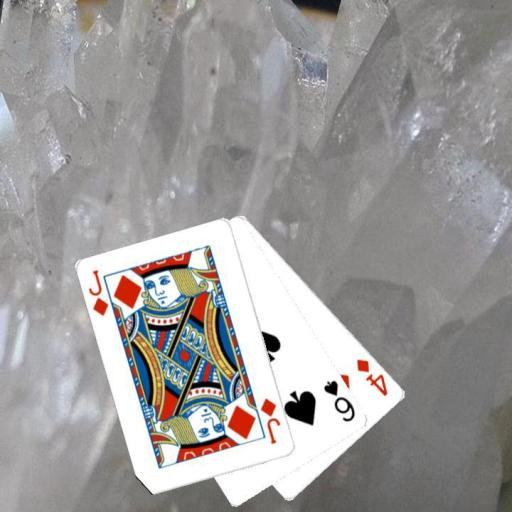4D: (353, 356, 390, 398)
6S: (321, 377, 358, 424)
JD: (85, 267, 111, 318), (258, 395, 283, 446)
